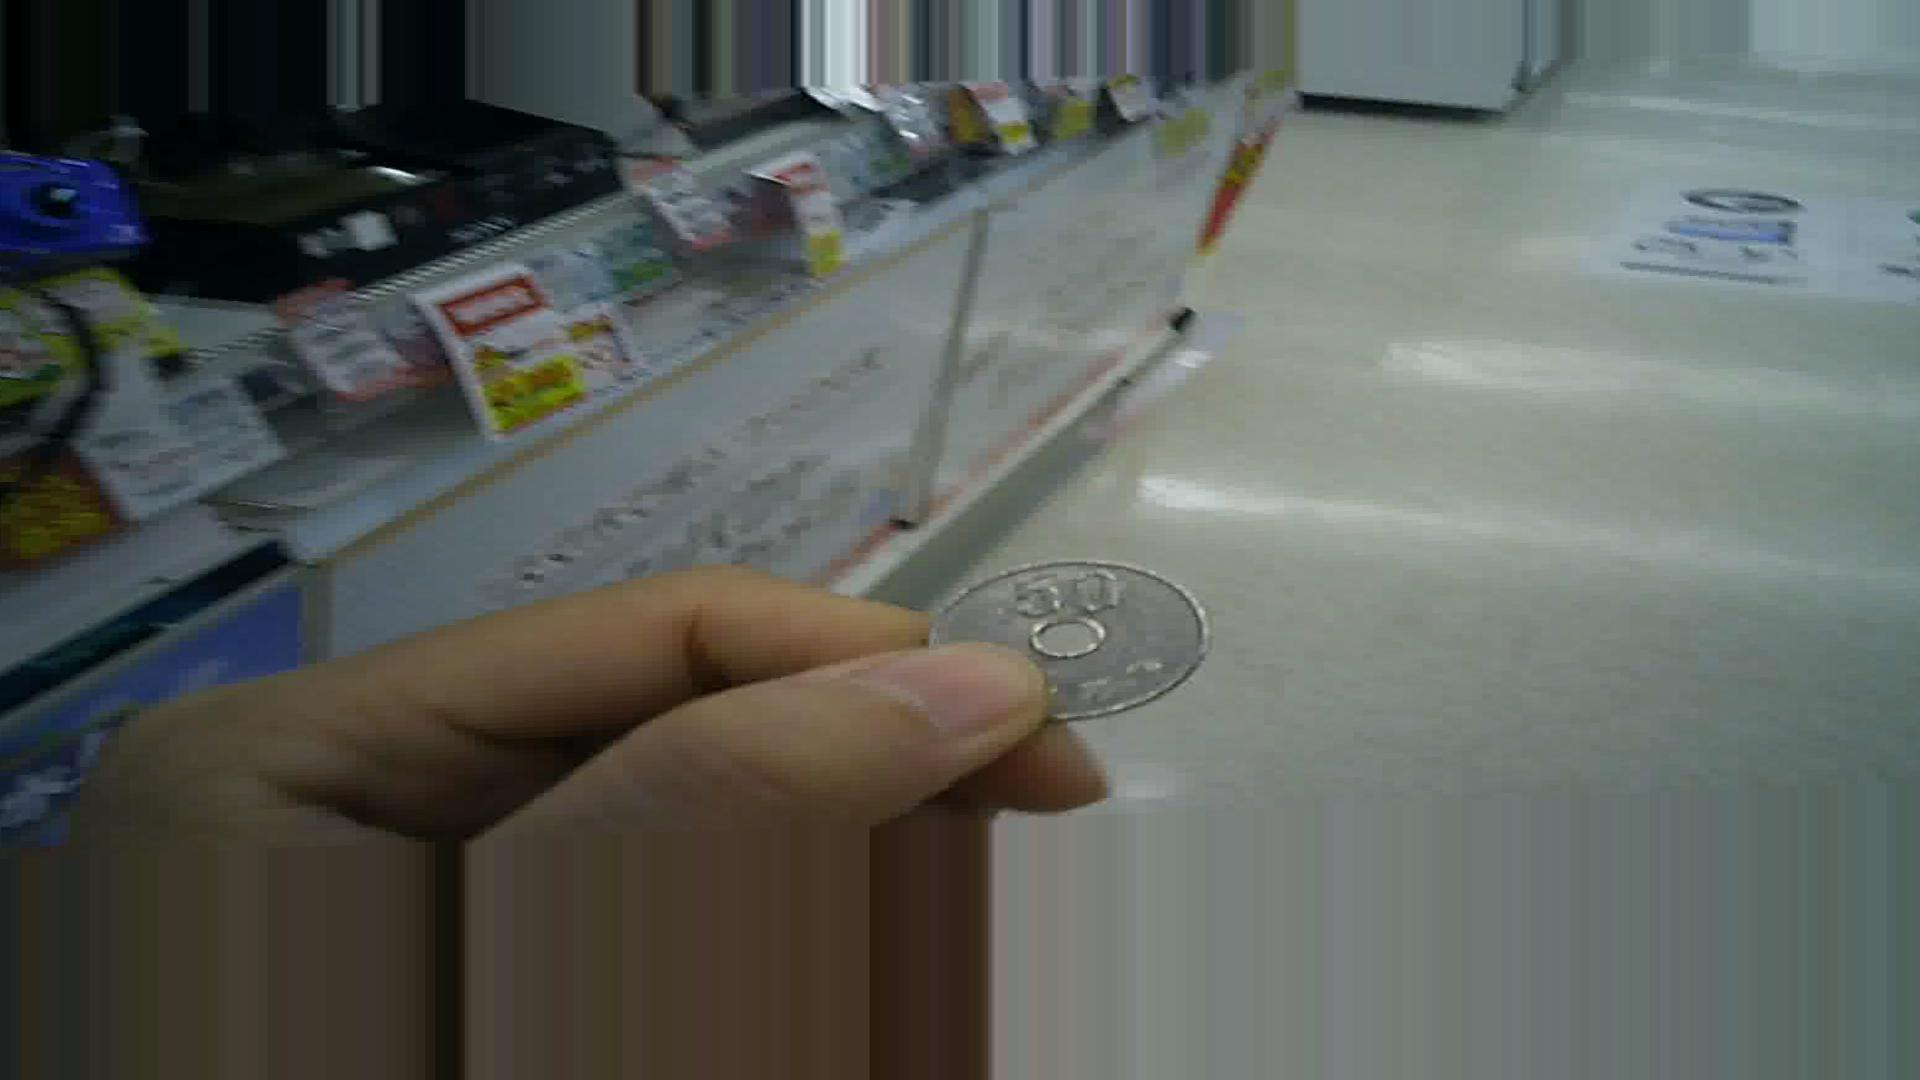50 Yen: (907, 556, 1226, 732)
